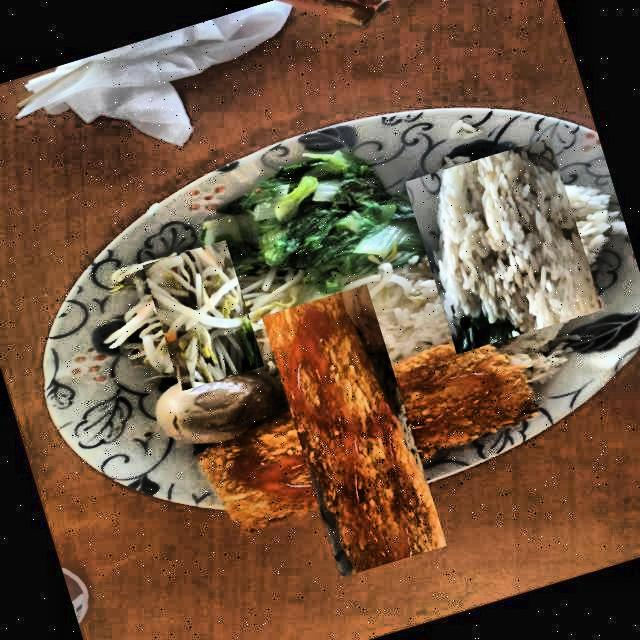Food: (234, 310, 474, 550), (400, 142, 608, 350), (134, 246, 272, 383)
